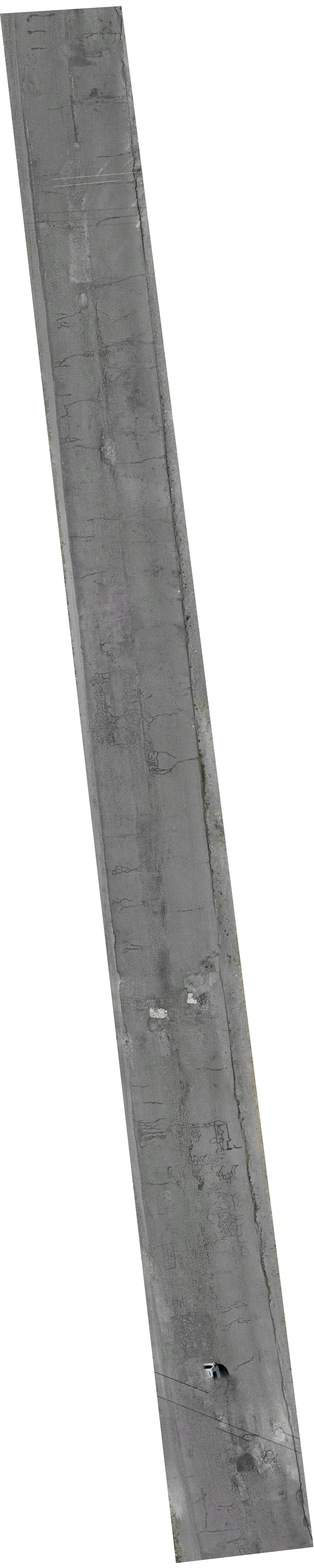BACHE: (183, 973, 204, 993), (226, 1382, 235, 1402), (264, 1451, 276, 1465), (275, 1428, 285, 1444), (198, 993, 208, 1005), (187, 993, 197, 1004), (244, 1434, 255, 1441), (217, 1415, 222, 1419), (101, 436, 105, 439), (197, 1014, 201, 1017)
GRIETA: (97, 274, 146, 288), (59, 350, 94, 366), (119, 455, 165, 464), (109, 366, 157, 374), (171, 757, 198, 769), (96, 216, 131, 225), (71, 101, 78, 143), (234, 1359, 254, 1371), (221, 1319, 250, 1327), (112, 313, 133, 324), (201, 951, 215, 965), (122, 940, 143, 948), (117, 40, 123, 67), (141, 1118, 167, 1124), (121, 904, 143, 911), (196, 1529, 234, 1533), (96, 181, 133, 185), (203, 1499, 208, 1528), (143, 1130, 167, 1136), (89, 32, 117, 37), (97, 153, 124, 158), (113, 340, 146, 344), (196, 1067, 228, 1071), (104, 840, 125, 846), (112, 898, 133, 904), (153, 713, 178, 718), (159, 752, 176, 759), (145, 1135, 167, 1140), (102, 312, 114, 321), (59, 407, 68, 418), (122, 948, 141, 953), (296, 1491, 302, 1506), (69, 310, 81, 317), (149, 1182, 170, 1186), (95, 303, 99, 323), (64, 401, 77, 407), (76, 445, 95, 449), (117, 13, 120, 36), (29, 14, 51, 17), (30, 30, 46, 34), (142, 1102, 163, 1105), (132, 1085, 151, 1088), (52, 365, 70, 368), (142, 1124, 160, 1127), (67, 419, 70, 436), (32, 47, 47, 50), (192, 1499, 201, 1504), (142, 1128, 162, 1130), (169, 910, 188, 912), (55, 394, 72, 396), (51, 191, 62, 194), (123, 949, 129, 954), (47, 108, 59, 110), (231, 1147, 243, 1149), (77, 400, 88, 402), (152, 1213, 163, 1215), (173, 599, 181, 601), (59, 442, 64, 444), (80, 312, 83, 315), (59, 438, 65, 439)
PARCHE: (236, 1454, 255, 1471), (215, 1377, 228, 1395), (77, 293, 88, 310), (177, 1368, 188, 1382), (203, 962, 215, 973), (195, 1388, 207, 1398), (133, 1036, 145, 1046), (186, 1017, 196, 1026), (209, 1392, 217, 1401)
PIEL DE COCODRILO: (153, 1076, 220, 1360), (89, 410, 143, 664), (199, 1071, 248, 1286), (115, 660, 173, 812), (214, 1415, 274, 1556), (136, 813, 169, 929), (89, 670, 120, 785), (63, 437, 94, 544), (147, 1005, 187, 1075), (144, 940, 186, 1004), (49, 9, 77, 95), (60, 143, 87, 227), (88, 323, 109, 409), (134, 1120, 152, 1217), (68, 225, 93, 284), (40, 260, 67, 306), (268, 1505, 304, 1534), (79, 86, 128, 105), (138, 578, 172, 604), (28, 160, 51, 198), (69, 9, 91, 47), (15, 14, 32, 60), (21, 66, 43, 97), (61, 97, 76, 142), (120, 994, 153, 1014), (72, 316, 90, 351), (203, 982, 219, 1021), (34, 219, 70, 236), (78, 138, 94, 172), (107, 865, 141, 881), (151, 606, 166, 638), (216, 1300, 250, 1314), (50, 313, 69, 338), (29, 63, 43, 92), (216, 1502, 235, 1518), (69, 73, 79, 102), (161, 1200, 176, 1216), (239, 1309, 258, 1321), (188, 905, 201, 919), (200, 1487, 207, 1500)
